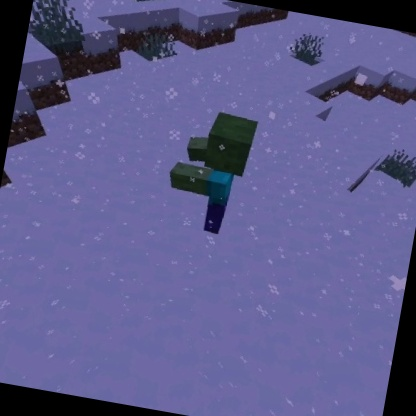zombie: (158, 102, 266, 243)
